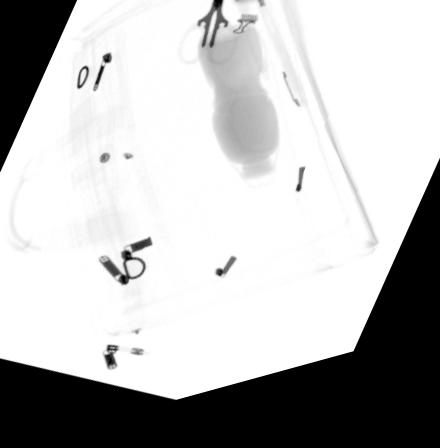Scissors: (174, 0, 238, 82)
